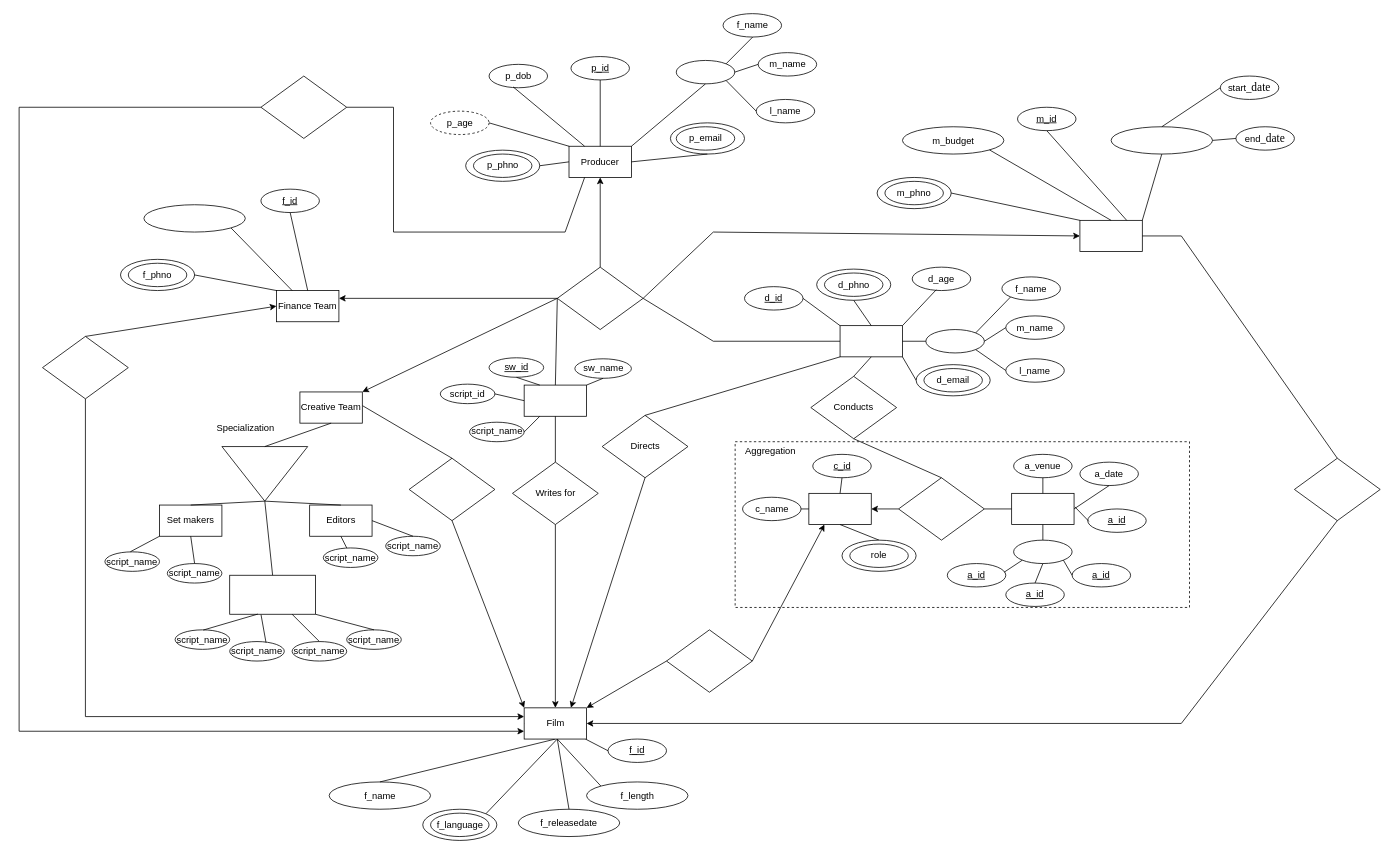
The diagram is 1394 pixels wide and 854 high, and some of its shapes have lost their labels. The centre of each missing label's shape, as x and y in pixels:
"Acts for" belongs at point 709,660.
"assigned_budget" belongs at point 194,218.
"Audition" belongs at point 1042,509.
"audtionee" belongs at point 1042,551.
"Budgeting" belongs at point 85,367.
"Cast" belongs at point 839,509.
"d_name" belongs at point 954,341.
"Director" belongs at point 870,341.
"Finalize" belongs at point 941,508.
"Has a" belongs at point 264,473.
"Hires" belongs at point 600,298.
"m_timeframe" belongs at point 1161,140.
"Make up Artists & Fashion Designer" belongs at point 272,594.
"Marketing" belongs at point 1110,236.
"Markets" belongs at point 1337,489.
"p_name" belongs at point 705,72.
"Produces" belongs at point 303,106.
"Screenwriters" belongs at point 555,400.
"Works on" belongs at point 451,489.
